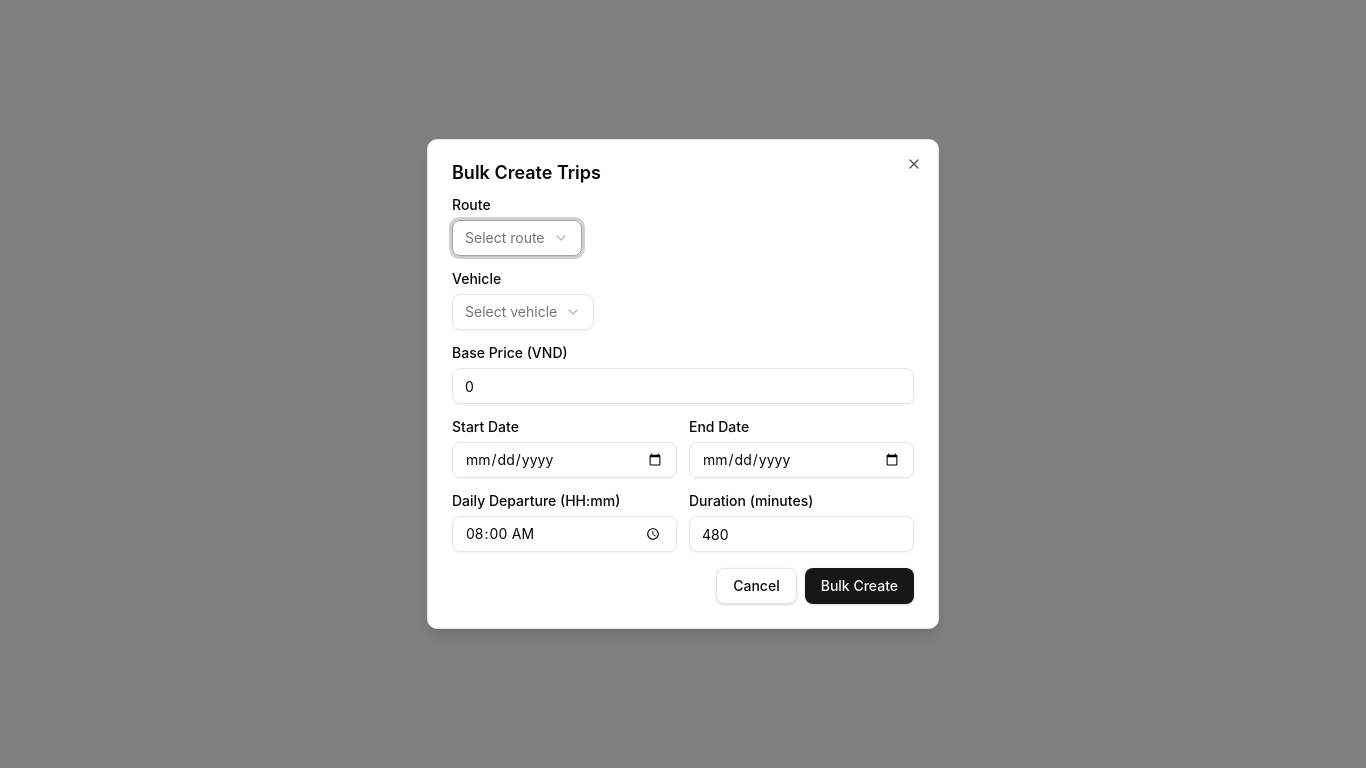
TripBulkCreateDialog › shows validation errors on empty submit
The image size is (1366, 768).
Click the button "Bulk Create". click: (859, 586)
box: [805,568,914,604]
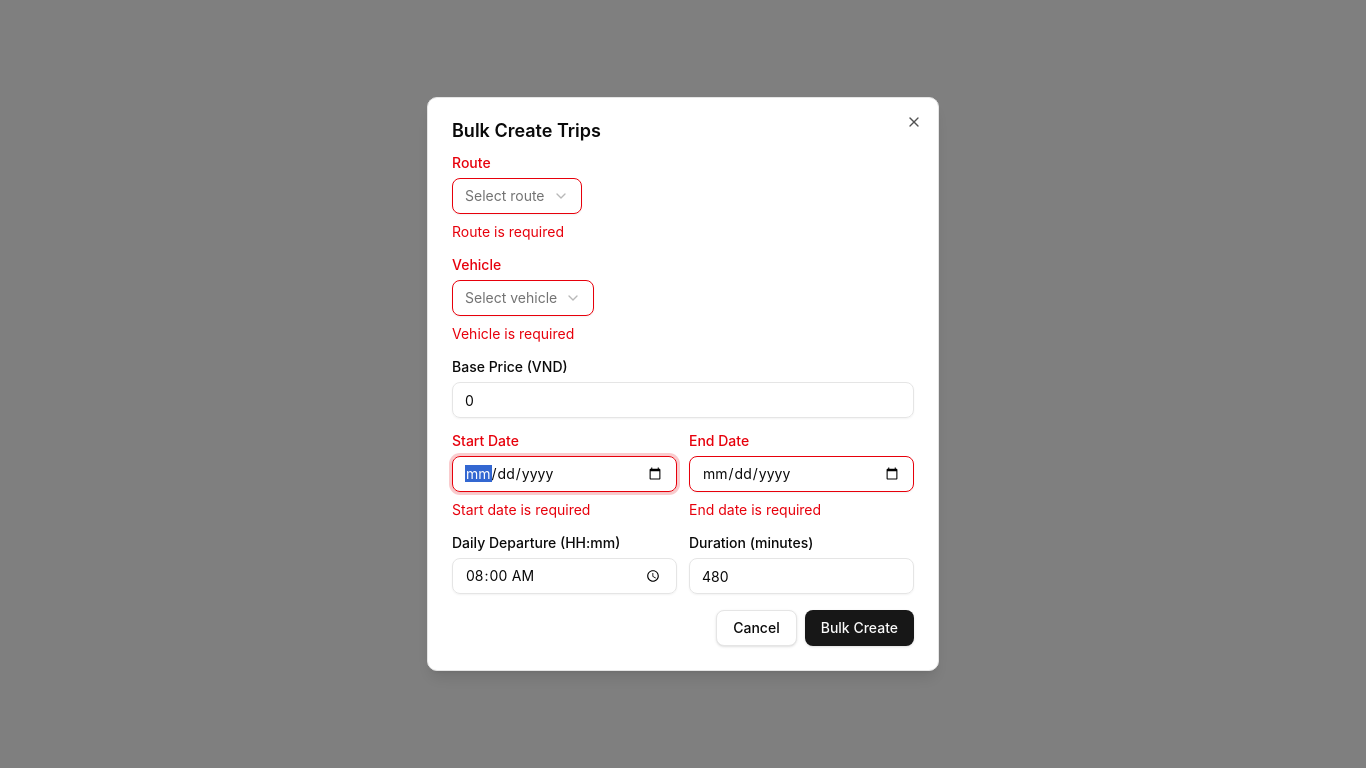
Expected: the text "Route is required" is shown, [452,223,564,240]
